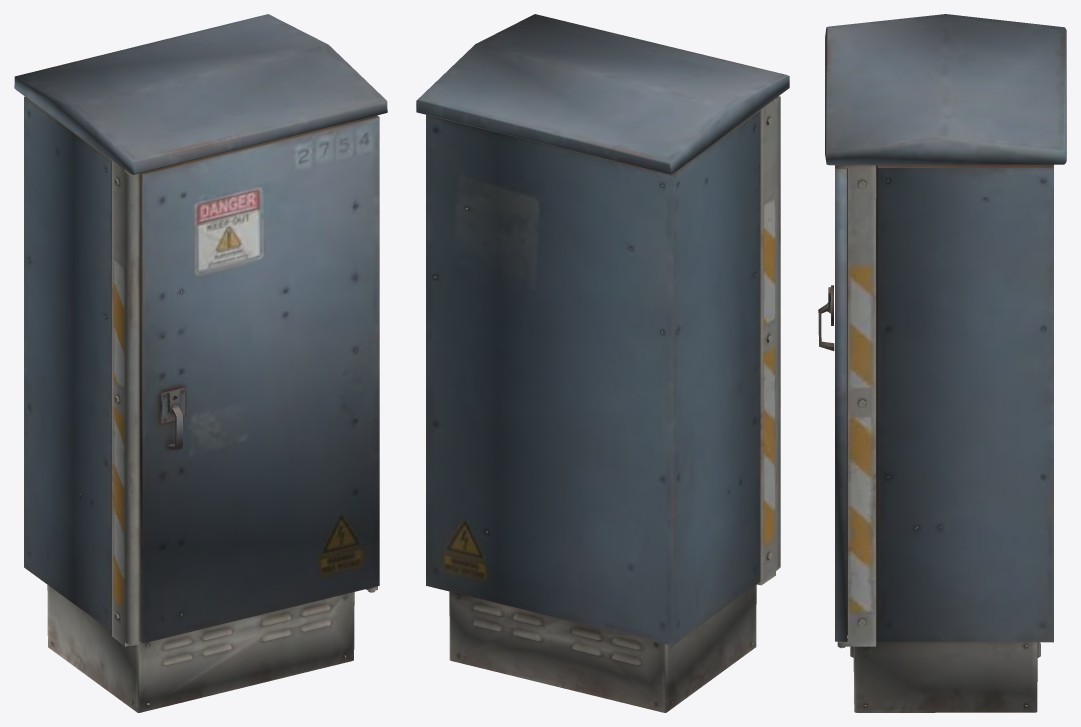
Rendered from utility-box.glb.
The picture shows the model from 3 angles, left to right: view 1: azimuth 30°, elevation 25°; view 2: azimuth 150°, elevation 25°; view 3: azimuth 270°, elevation 25°; orthographic projection.
Parts seen in each view (by area): view 1: utility_box_01_box; view 2: utility_box_01_box; view 3: utility_box_01_box.
Part boxes in pixels (x1,y1,x2,y2): utility_box_01_box: (14,14,387,712); utility_box_01_box: (416,14,789,712); utility_box_01_box: (818,14,1066,712).
Size of the model in its own units: 0.5164 by 1.12 by 0.4312.
Materials: 1 (1 with a texture image).
